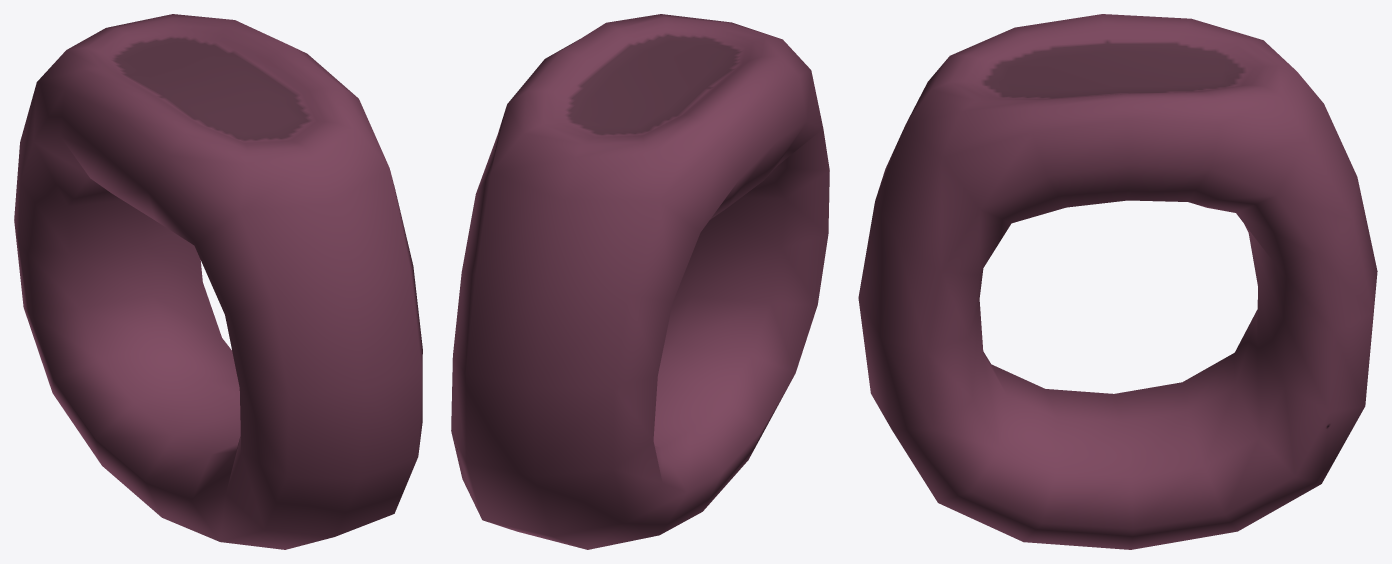
File: ring 2.fbx
3 views of the same model, side by side, from view 1: azimuth 30°, elevation 25°; view 2: azimuth 150°, elevation 25°; view 3: azimuth 270°, elevation 25° (orthographic).
Visible parts, largest first — view 1: Ring2; view 2: Ring2; view 3: Ring2.
Boxes of the visible parts, x1=… form: Ring2: x1=14, y1=14, x2=422, y2=549; Ring2: x1=451, y1=14, x2=829, y2=549; Ring2: x1=858, y1=14, x2=1377, y2=549.
Size of the model in its own units: 6.38 by 6.22 by 3.41.
